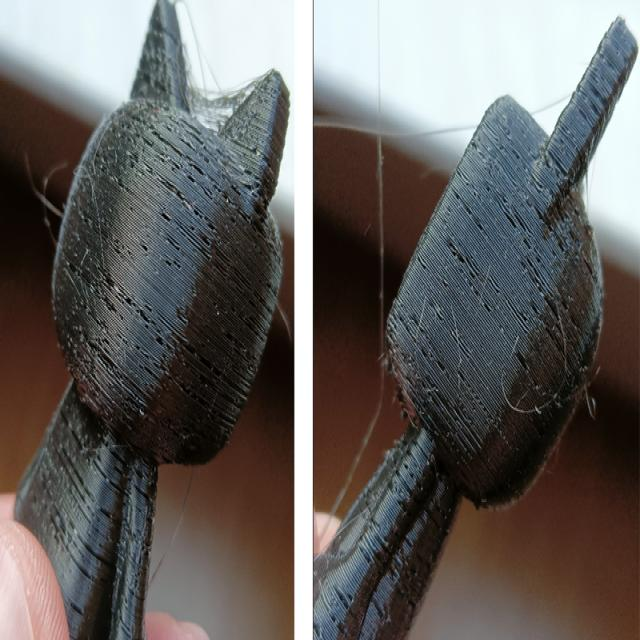Stringing: (179, 23, 266, 133)
